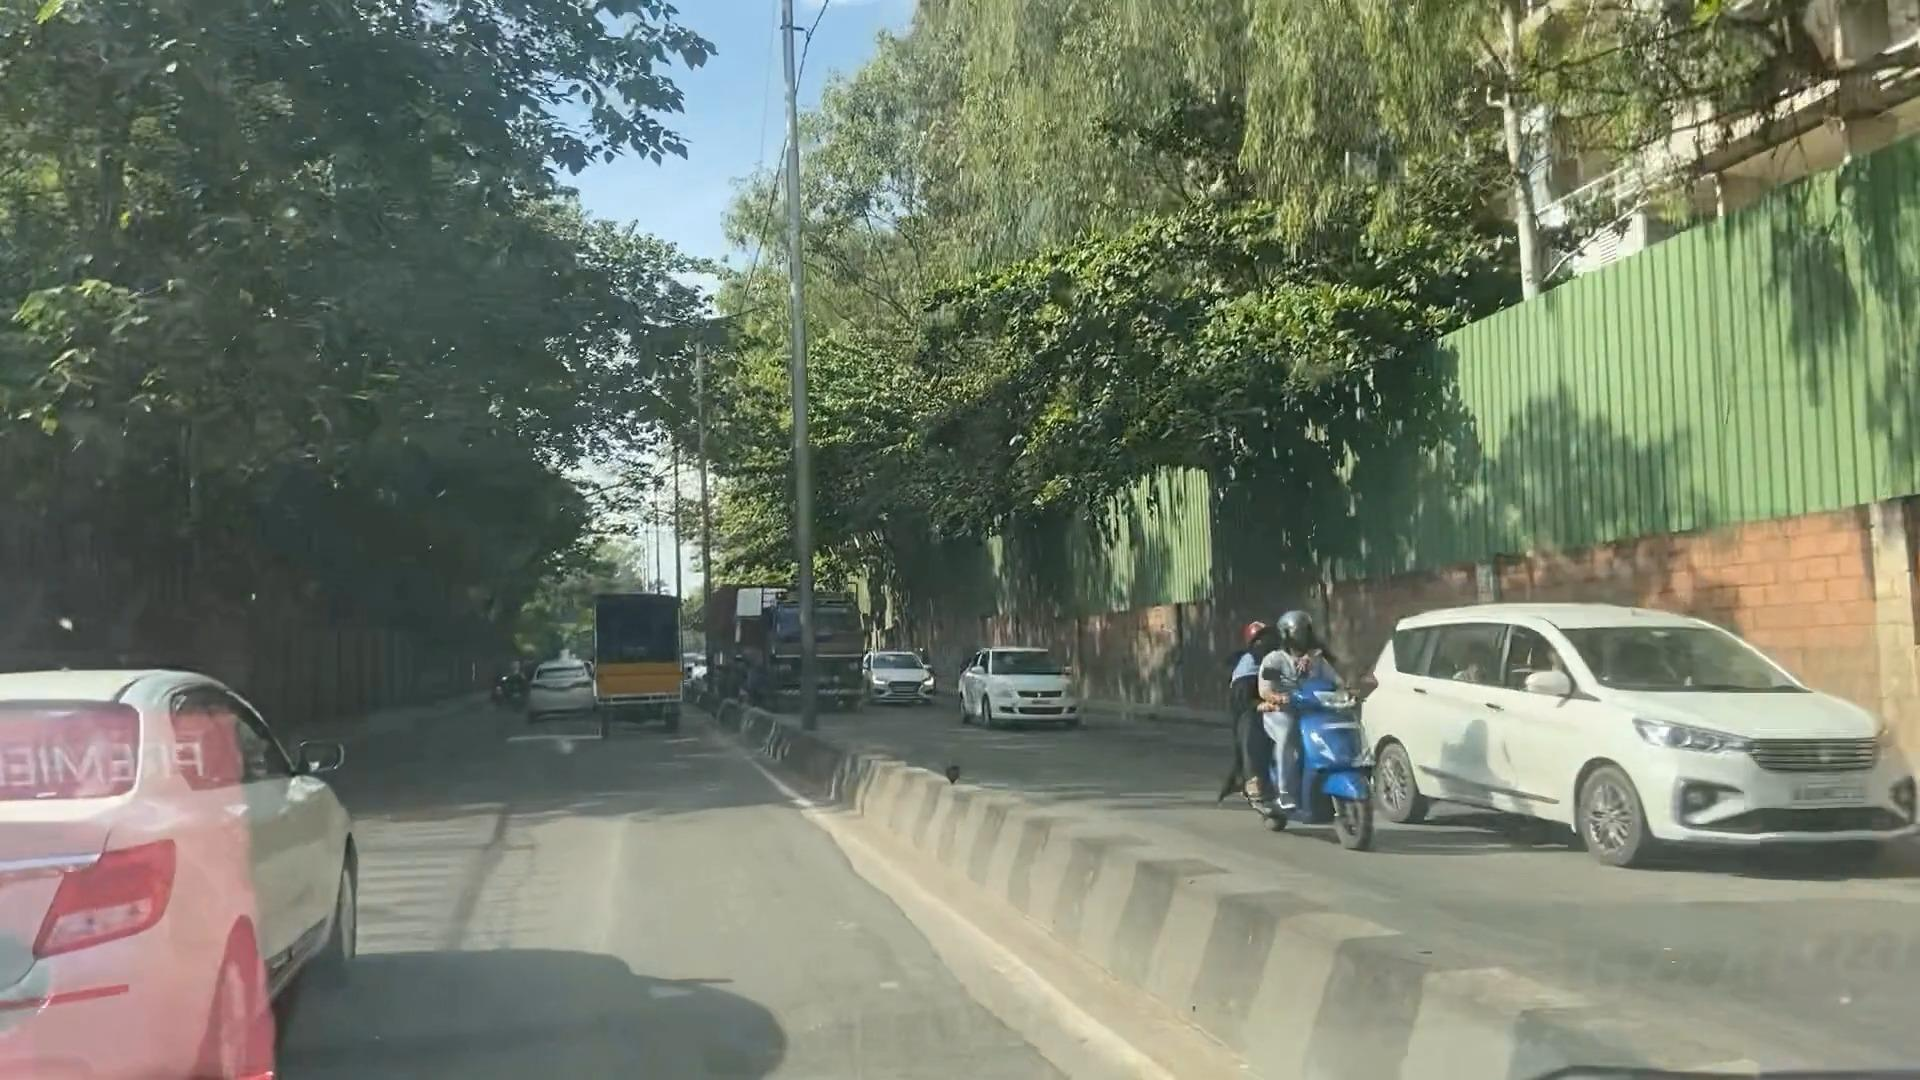HMV: (716, 560, 876, 723), (578, 578, 705, 753)
